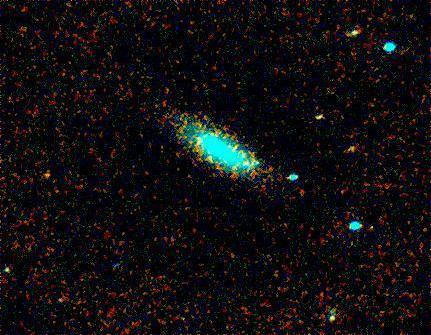star: (33, 162, 63, 192)
